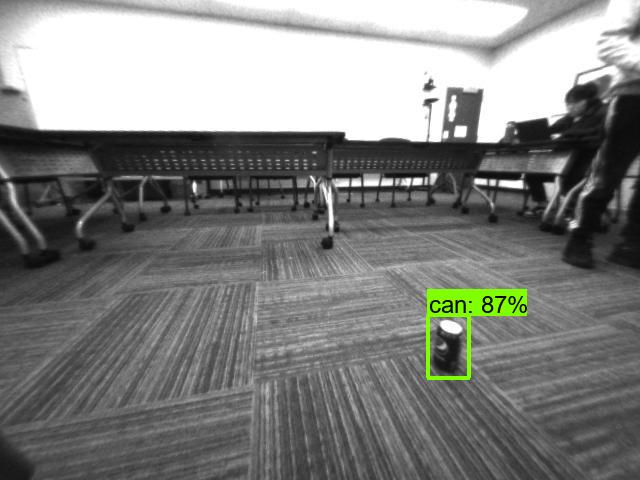can: (432, 316, 467, 375)
